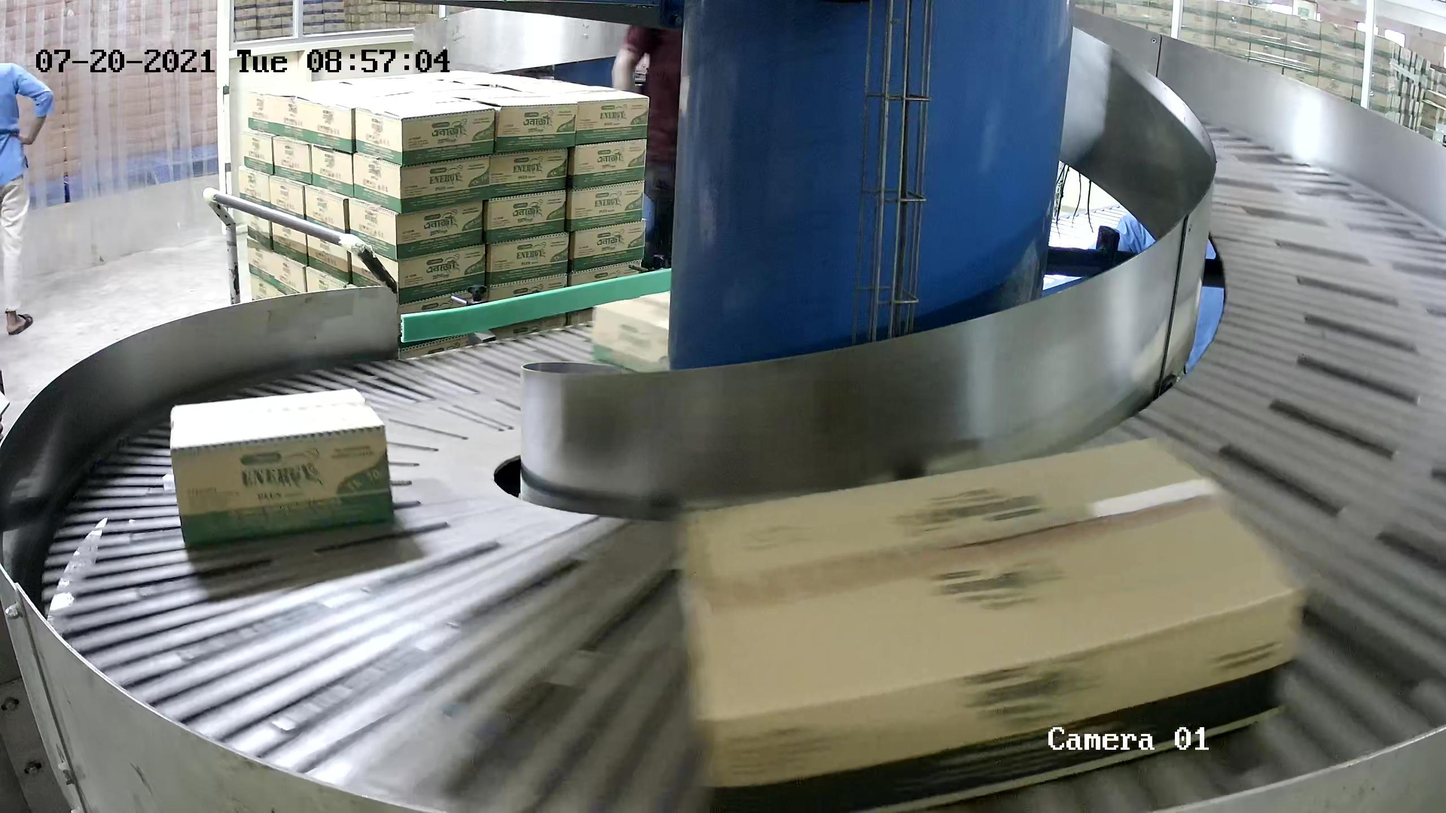Box: (672, 431, 1308, 813), (168, 387, 395, 545), (591, 290, 670, 373)
